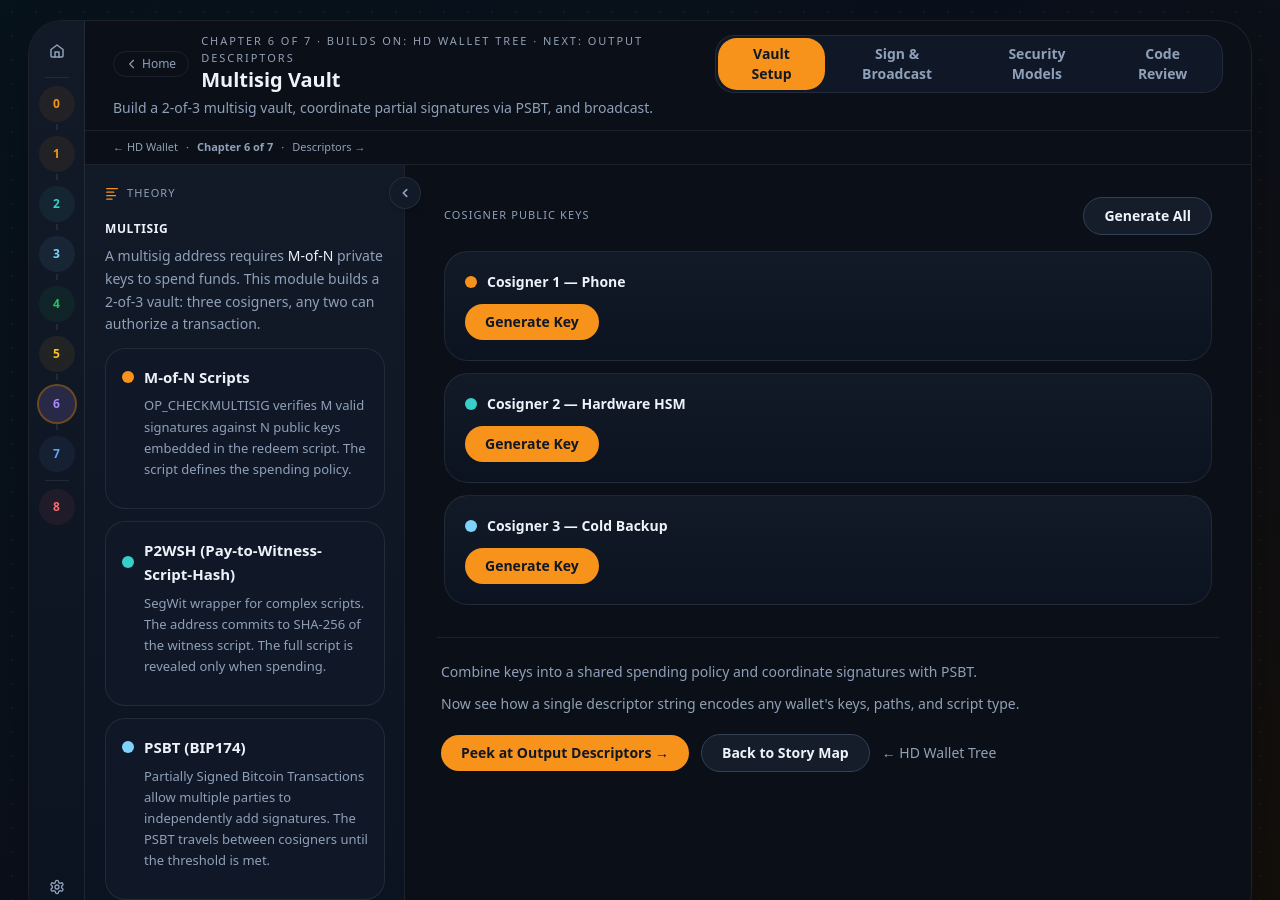
MultisigVault › AC5: Generate All creates all 3 cosigner keys
Step 1. Click the button "Generate All" → (1148, 216), box [1083,196,1212,234]
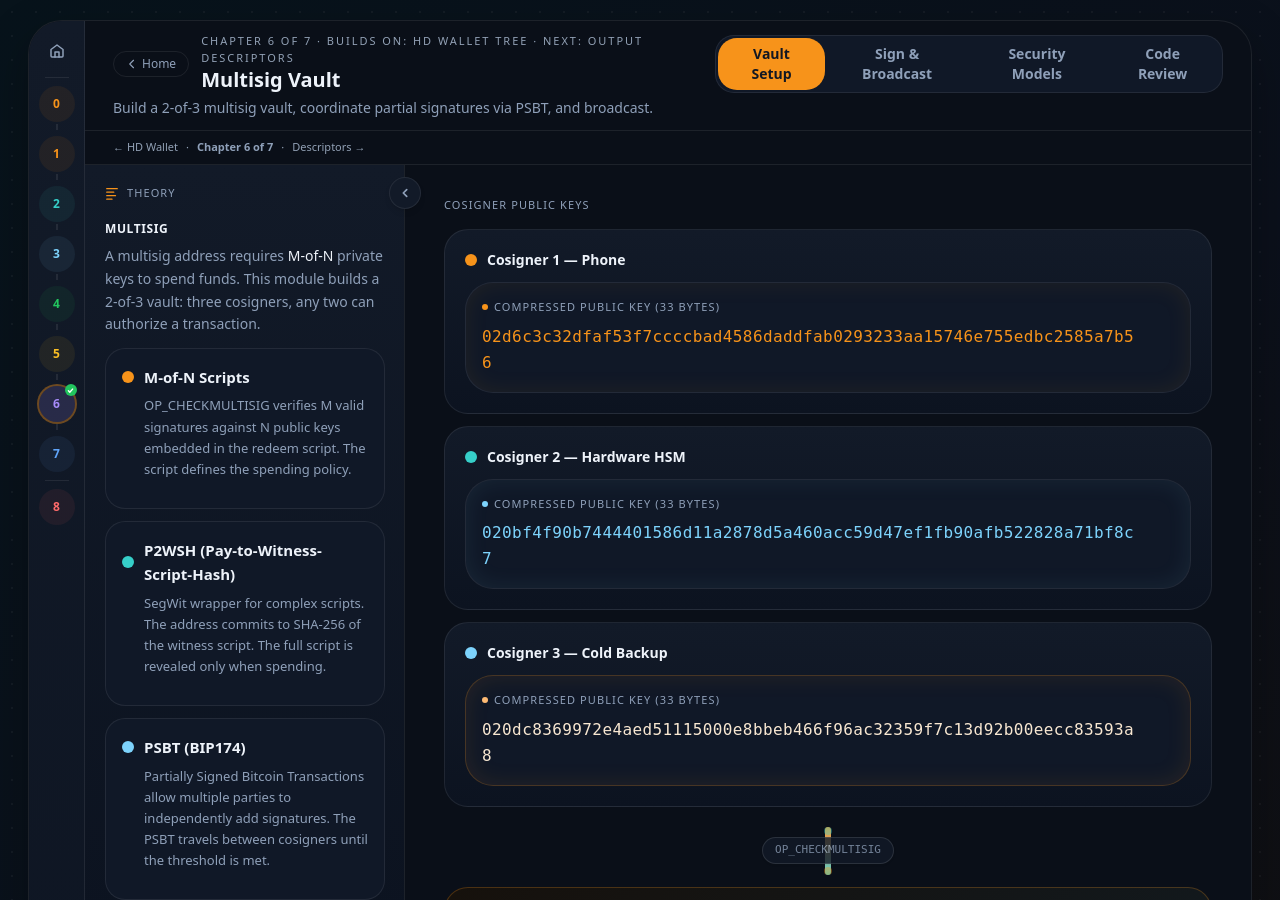
Expected: the text "Compressed public key (33 bytes)" is shown 3 times, [482,299,720,314]; [482,496,720,510]; [482,692,720,707]
Expected: the button "Generate Key" is gone
